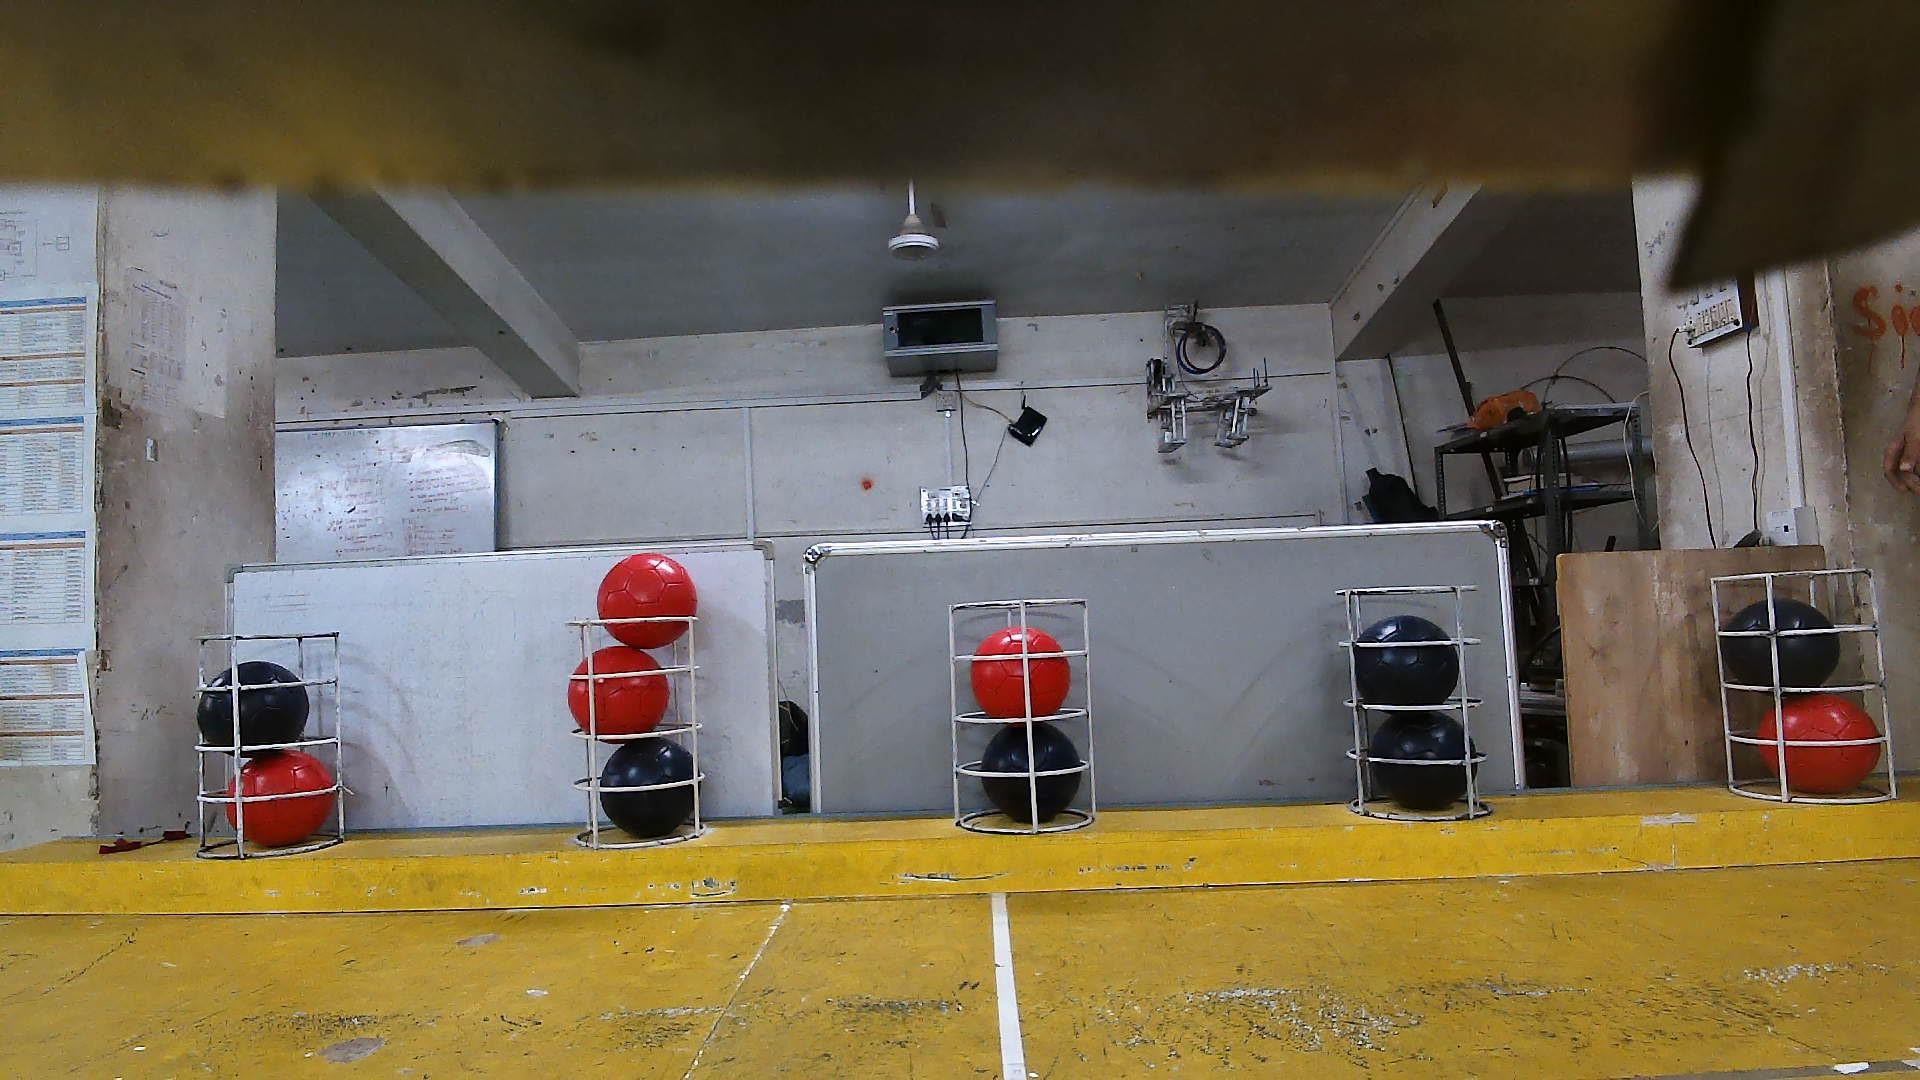dhoka: (1373, 708, 1485, 814), (195, 661, 307, 757), (982, 724, 1084, 825), (1722, 599, 1840, 686), (600, 738, 694, 840), (1354, 615, 1455, 705)
laale: (1760, 691, 1880, 795), (225, 750, 334, 848), (596, 551, 698, 649), (972, 626, 1072, 720), (570, 645, 667, 735)
